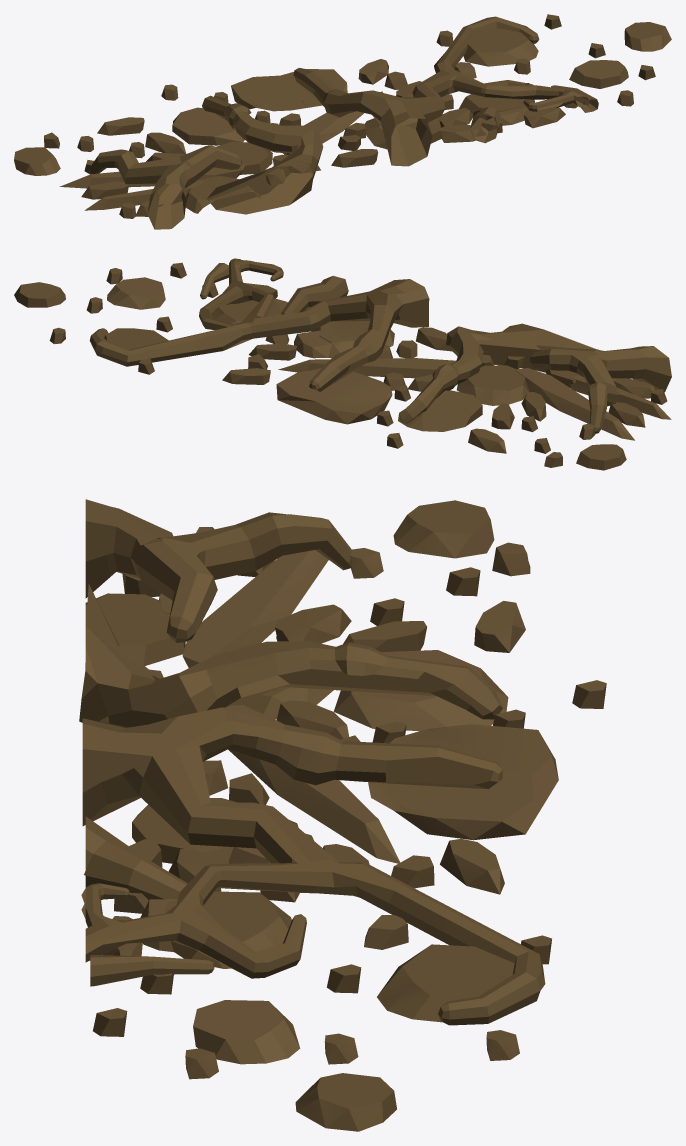
File: EA_Swamp_Dirt_Root_Half_04b.glb
3 views of the same model, one above another, from view 1: azimuth 30°, elevation 25°; view 2: azimuth 150°, elevation 25°; view 3: azimuth 270°, elevation 25° (orthographic). The views are drawn at different scales.
Parts seen in each view (by area): view 1: EA_Swamp_Dirt_Root_Half_04b; view 2: EA_Swamp_Dirt_Root_Half_04b; view 3: EA_Swamp_Dirt_Root_Half_04b.
Part boxes in pixels (bbox=[...]): EA_Swamp_Dirt_Root_Half_04b: bbox=[14, 14, 671, 229]; EA_Swamp_Dirt_Root_Half_04b: bbox=[14, 258, 671, 470]; EA_Swamp_Dirt_Root_Half_04b: bbox=[79, 499, 606, 1131].
Size of the model in its own units: 8.81 by 0.8254 by 3.2.
1 material, 1 textured.
